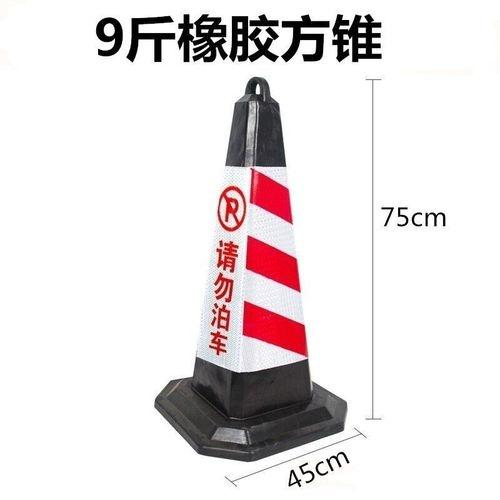cone_barrel: (161, 75, 331, 434)
